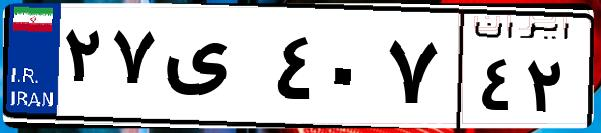0: (330, 28, 385, 110)
2: (57, 26, 110, 100), (525, 38, 570, 115)
4: (270, 28, 330, 110), (475, 38, 525, 113)
7: (385, 28, 445, 110), (110, 28, 158, 98)
ی: (158, 20, 270, 120)
